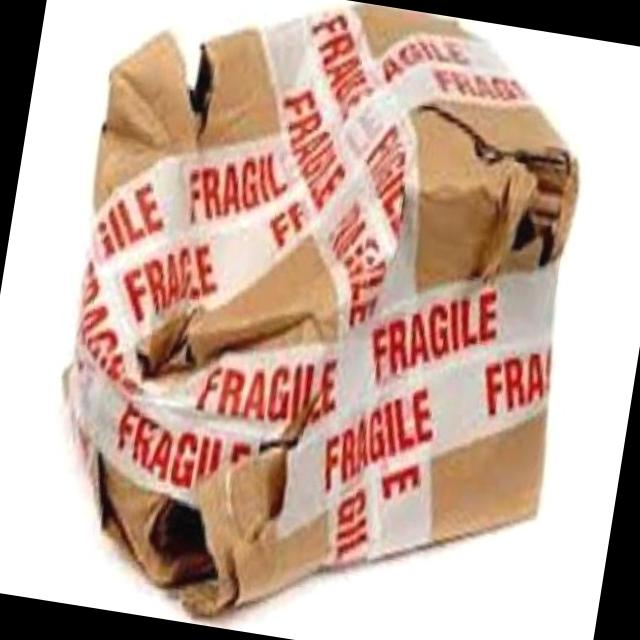box: (155, 214, 544, 620), (44, 61, 408, 410), (361, 189, 623, 388), (1, 312, 182, 600), (518, 24, 634, 229), (466, 501, 640, 616)
